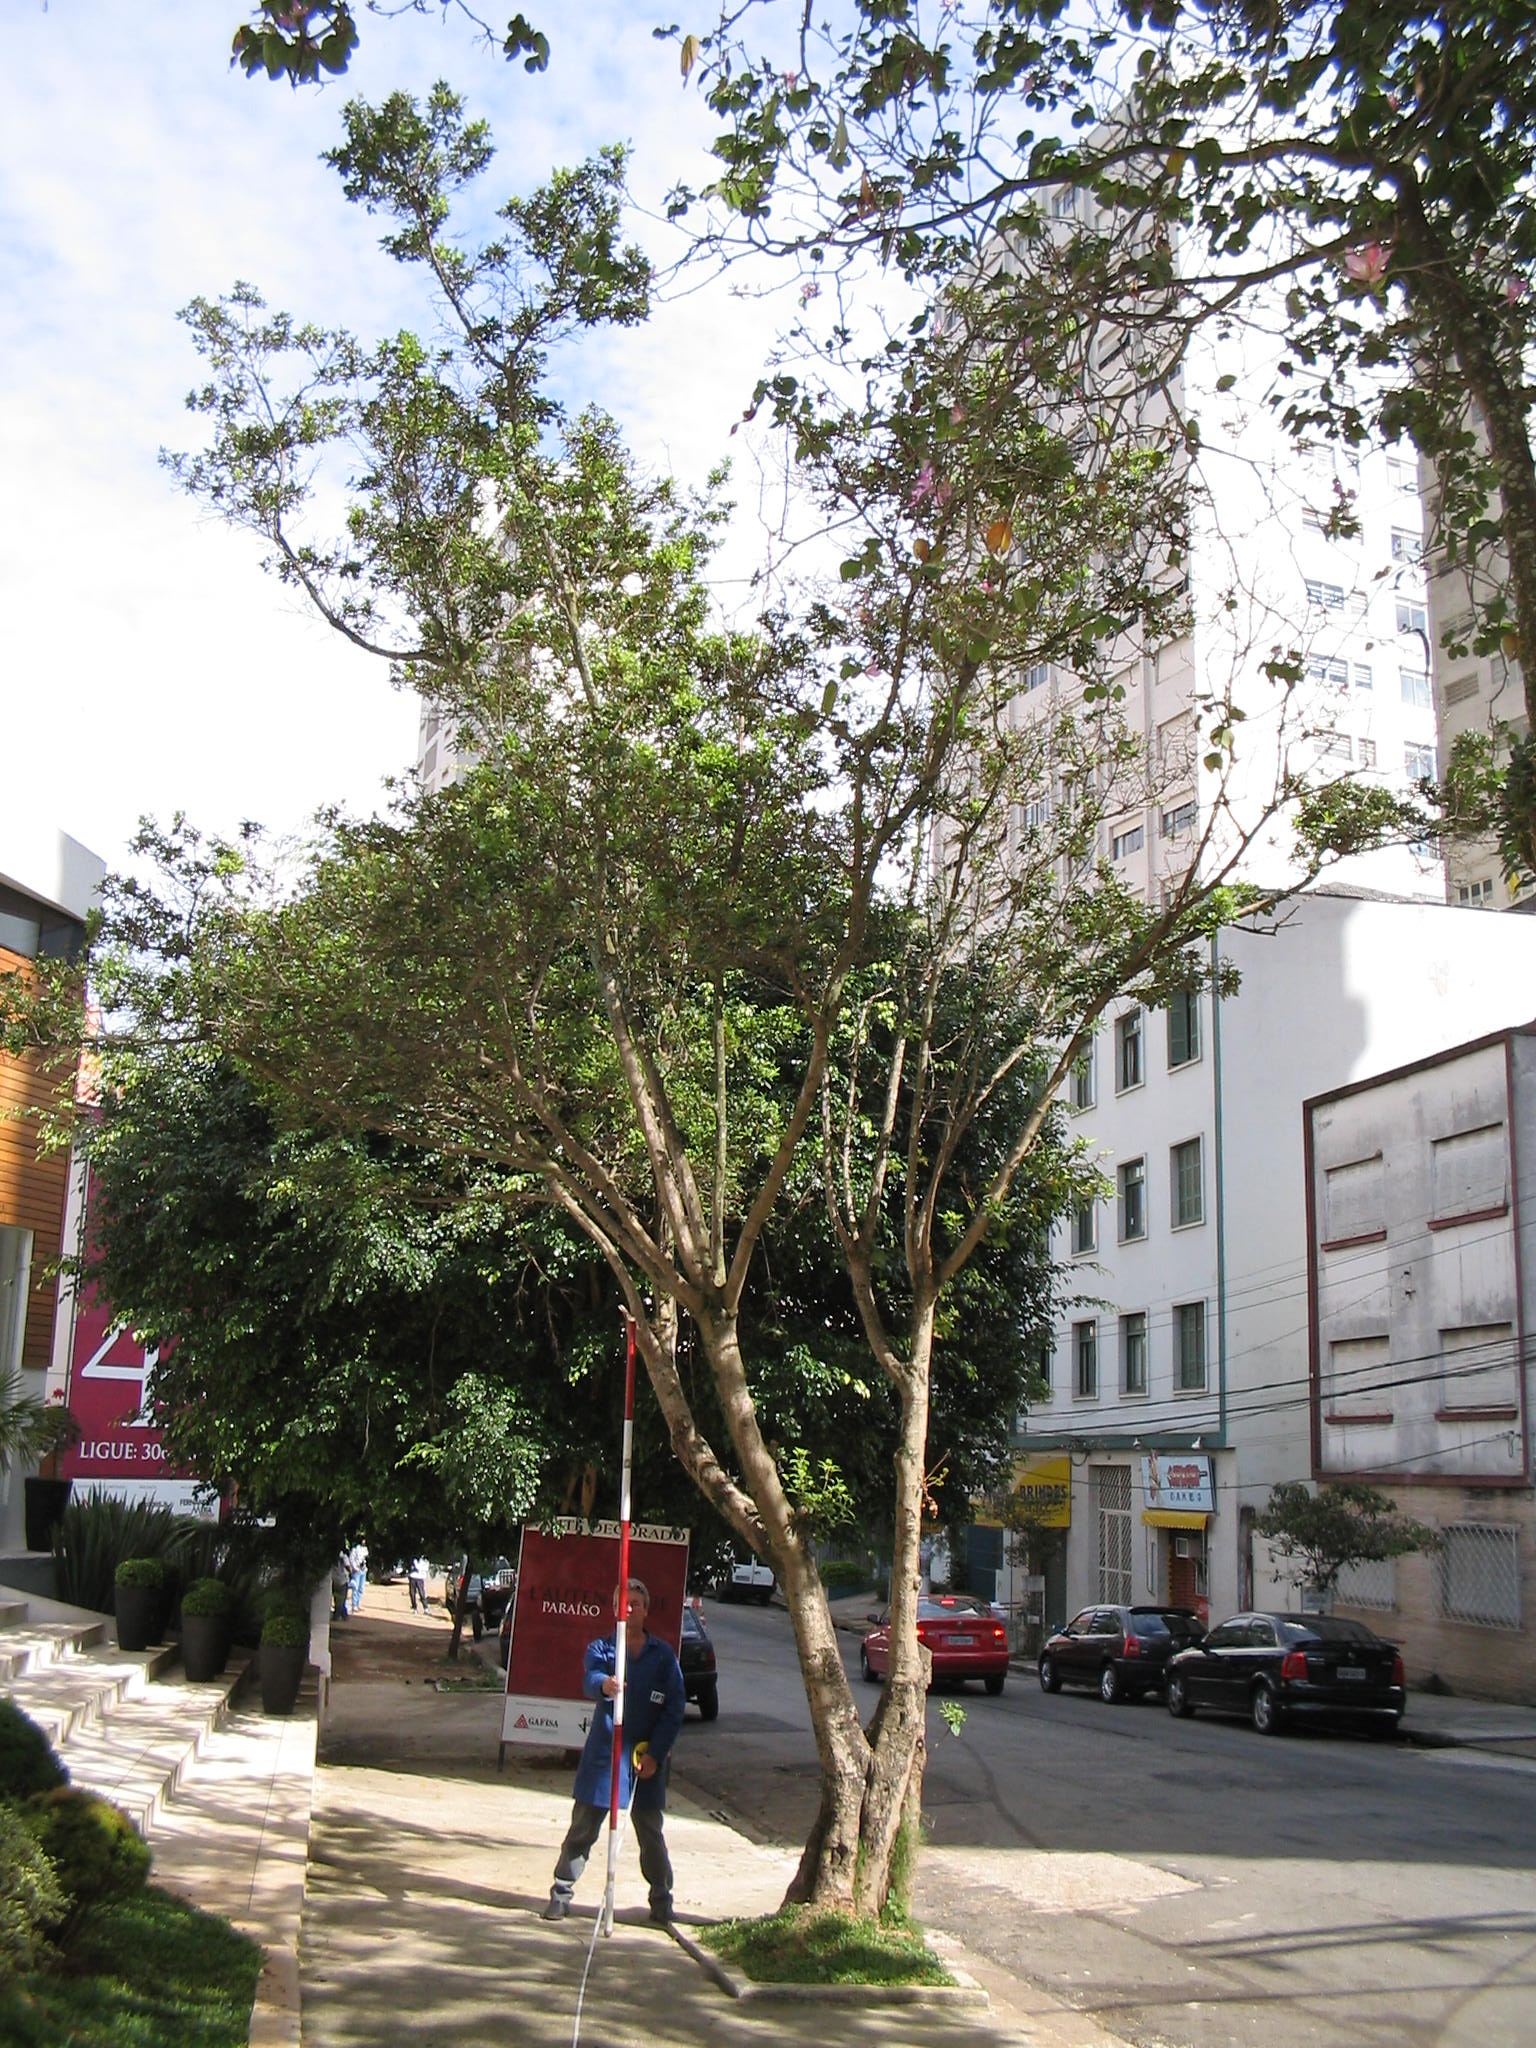stem: (736, 1758, 966, 1950)
stick: (594, 1316, 653, 1940)
tree: (161, 90, 1504, 1946)
